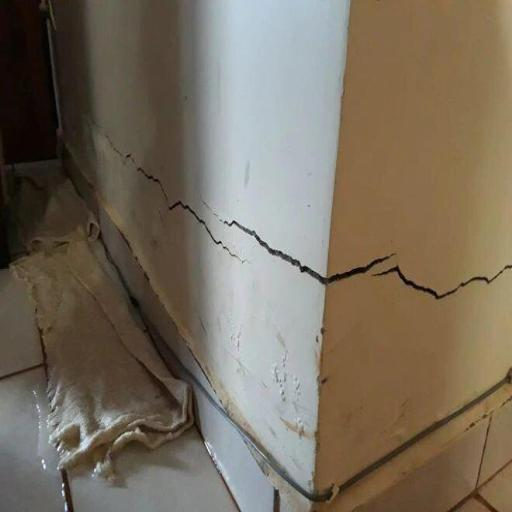spalling: (223, 209, 511, 310), (122, 147, 253, 267)
